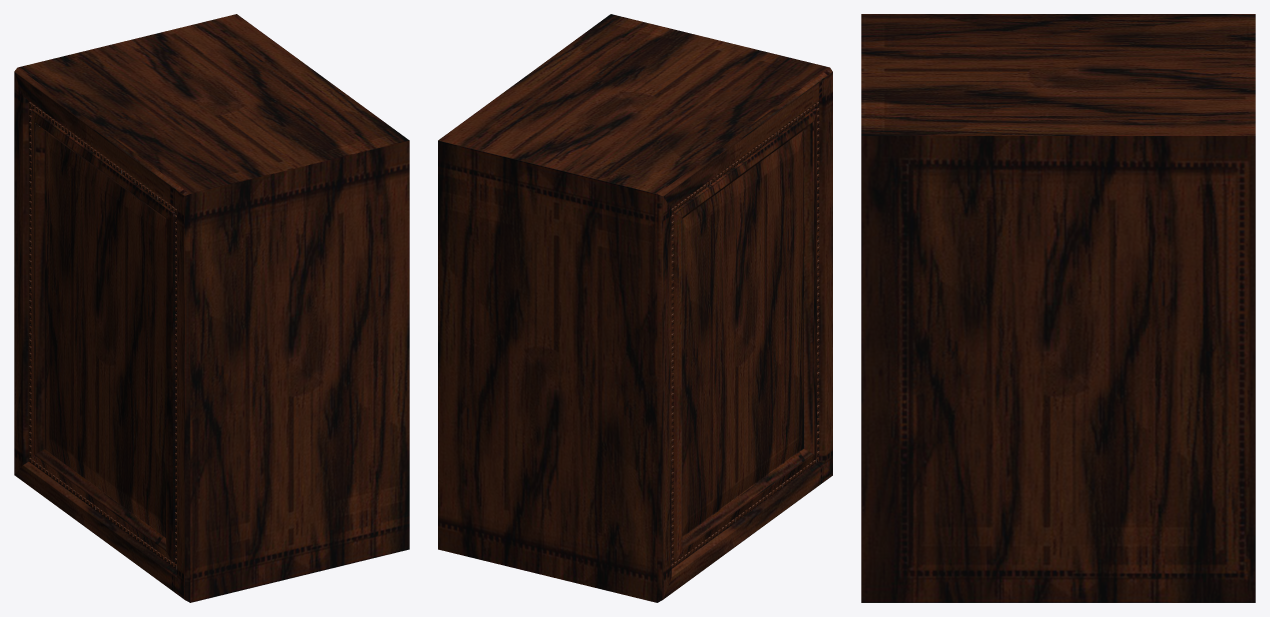
The model's file is sark-geometry.fbx.
3 views of the same model, side by side, from view 1: azimuth 30°, elevation 25°; view 2: azimuth 150°, elevation 25°; view 3: azimuth 270°, elevation 25° (orthographic). The views are drawn at different scales.
Visible parts, largest first — view 1: 单独_柜子; view 2: 单独_柜子; view 3: 单独_柜子.
Boxes of the visible parts, x1,y1,x2,y2 form: 单独_柜子: (14,14,409,602); 单独_柜子: (438,14,832,602); 单独_柜子: (861,14,1255,602).
Size of the model in its own units: 43.87 by 76.59 by 58.68.
